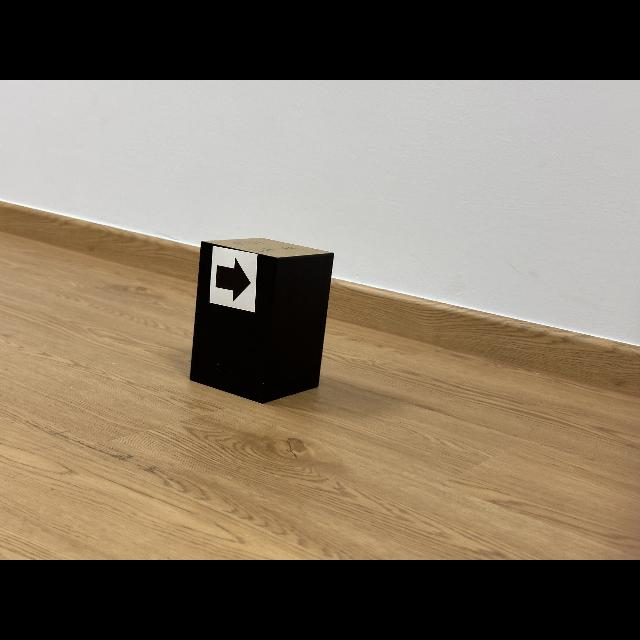RIGHT: (215, 259, 251, 301)
